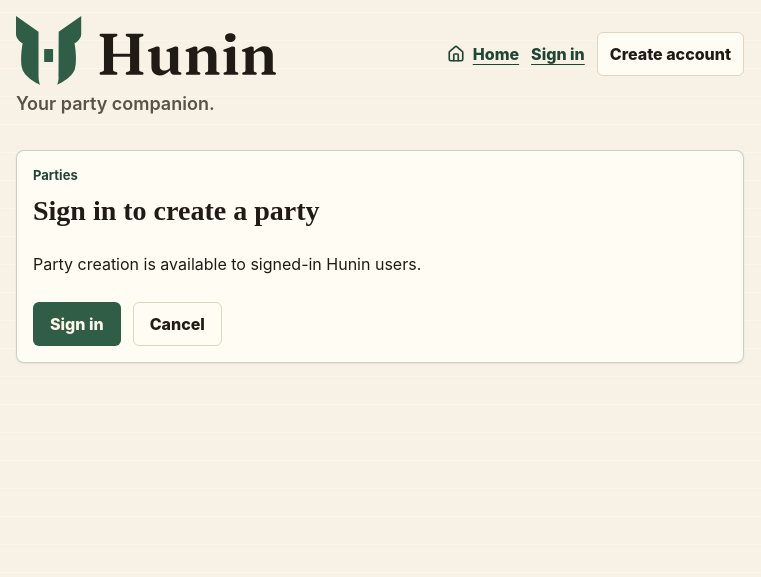
Scenario: App › restores the signed-out create Party state from Account Back
The width and height of the screenshot is (761, 577).
Click the button "Sign in" below "Sign in to create a party" at coordinates (77, 324), box [33, 302, 121, 346]
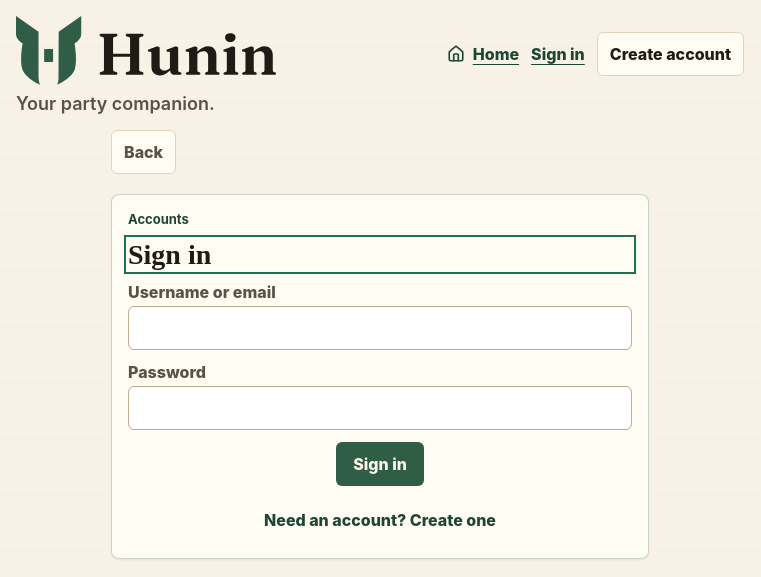
Click the button "Back" at coordinates (144, 152), box [111, 130, 176, 174]
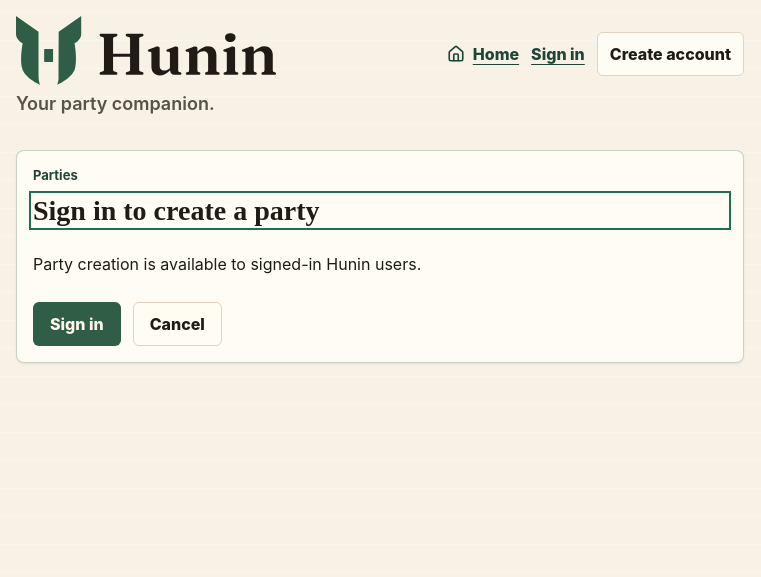
Now the heading "Sign in to create a party" is shown, box [33, 195, 320, 226]
